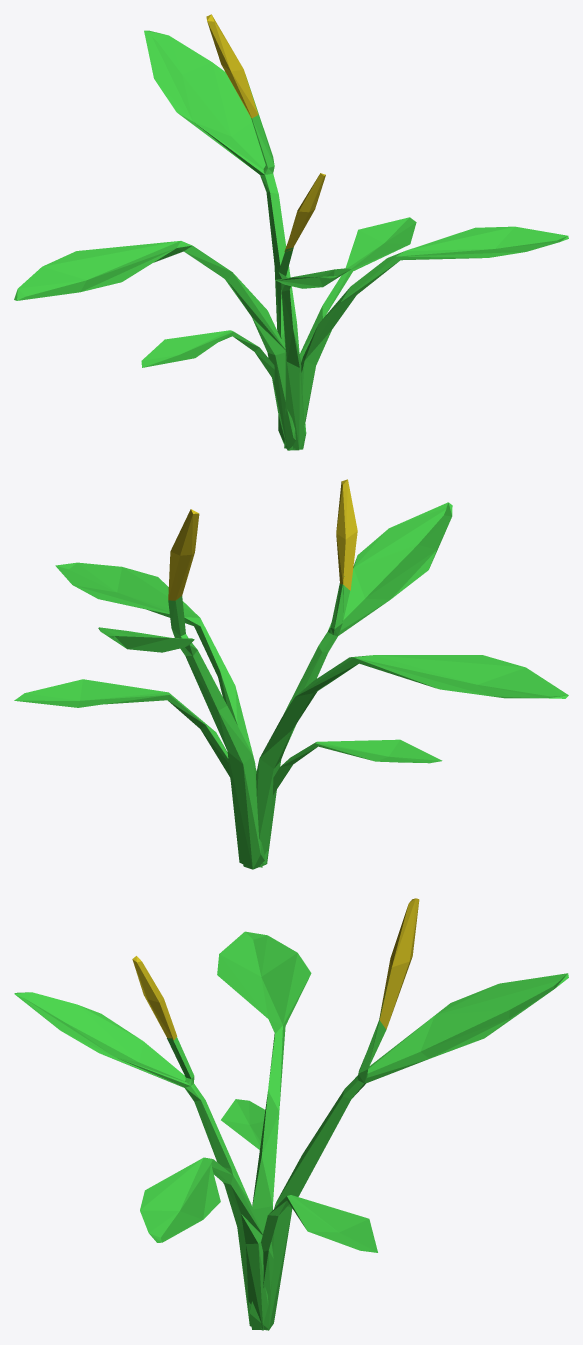
Rendered from Calla.fbx.
3 renders of one model, top to bottom at view 1: azimuth 30°, elevation 25°; view 2: azimuth 150°, elevation 25°; view 3: azimuth 270°, elevation 25°, orthographic. The views are drawn at different scales.
Visible parts, largest first — view 1: Pipa, Leafes; view 2: Pipa, Leafes; view 3: Pipa, Leafes.
Part boxes in pixels (x1,y1,x2,y2): Pipa: (14, 30, 416, 450); Leafes: (141, 14, 568, 450); Pipa: (14, 596, 568, 869); Leafes: (55, 479, 452, 866); Pipa: (217, 931, 568, 1330); Leafes: (14, 898, 419, 1330).
Size of the model in its own units: 683 by 489 by 582.
